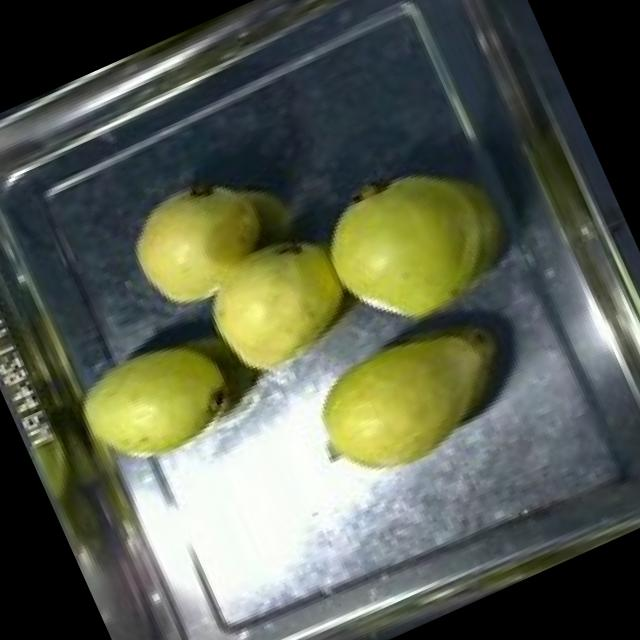Fruit: (290, 293, 539, 505), (299, 134, 534, 356), (179, 208, 377, 400), (58, 311, 258, 491), (110, 158, 294, 332)
